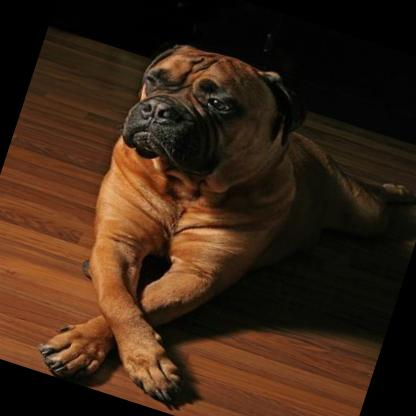bull_mastiff: (31, 24, 416, 416)
